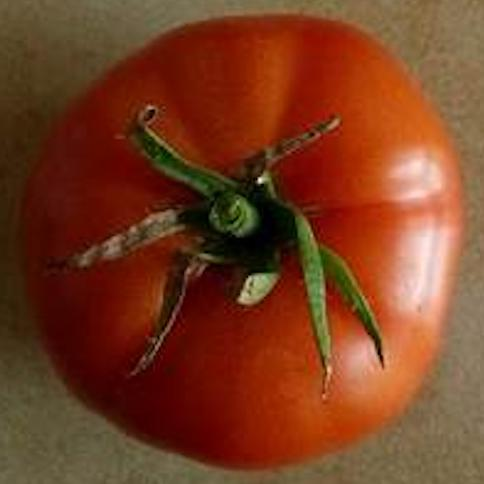tomato: (30, 22, 462, 463)
